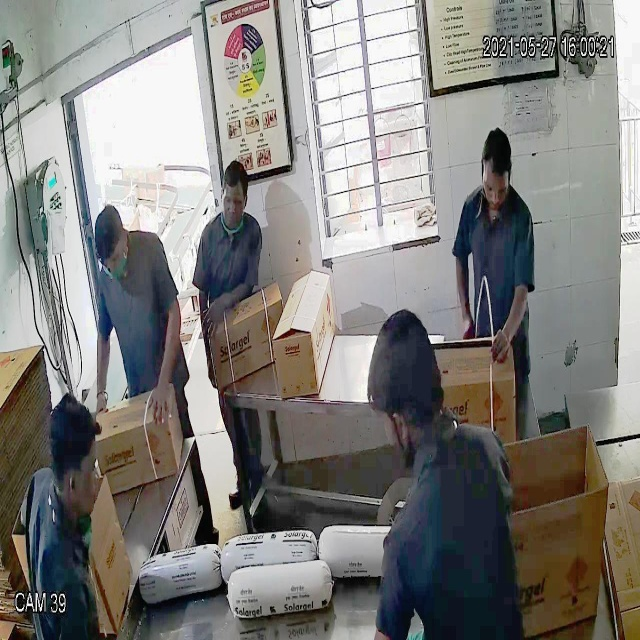Sin_gafas: (480, 173, 517, 204)
